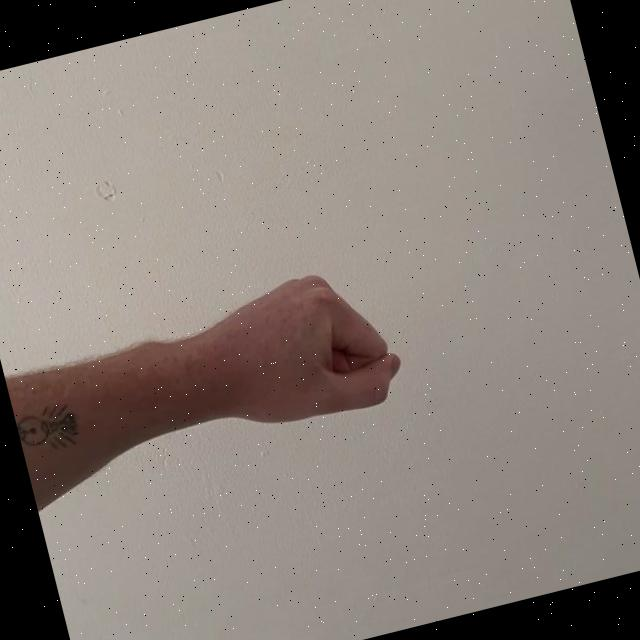rock: (145, 250, 414, 458)
